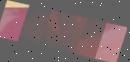scratch: (17, 5, 109, 58)
